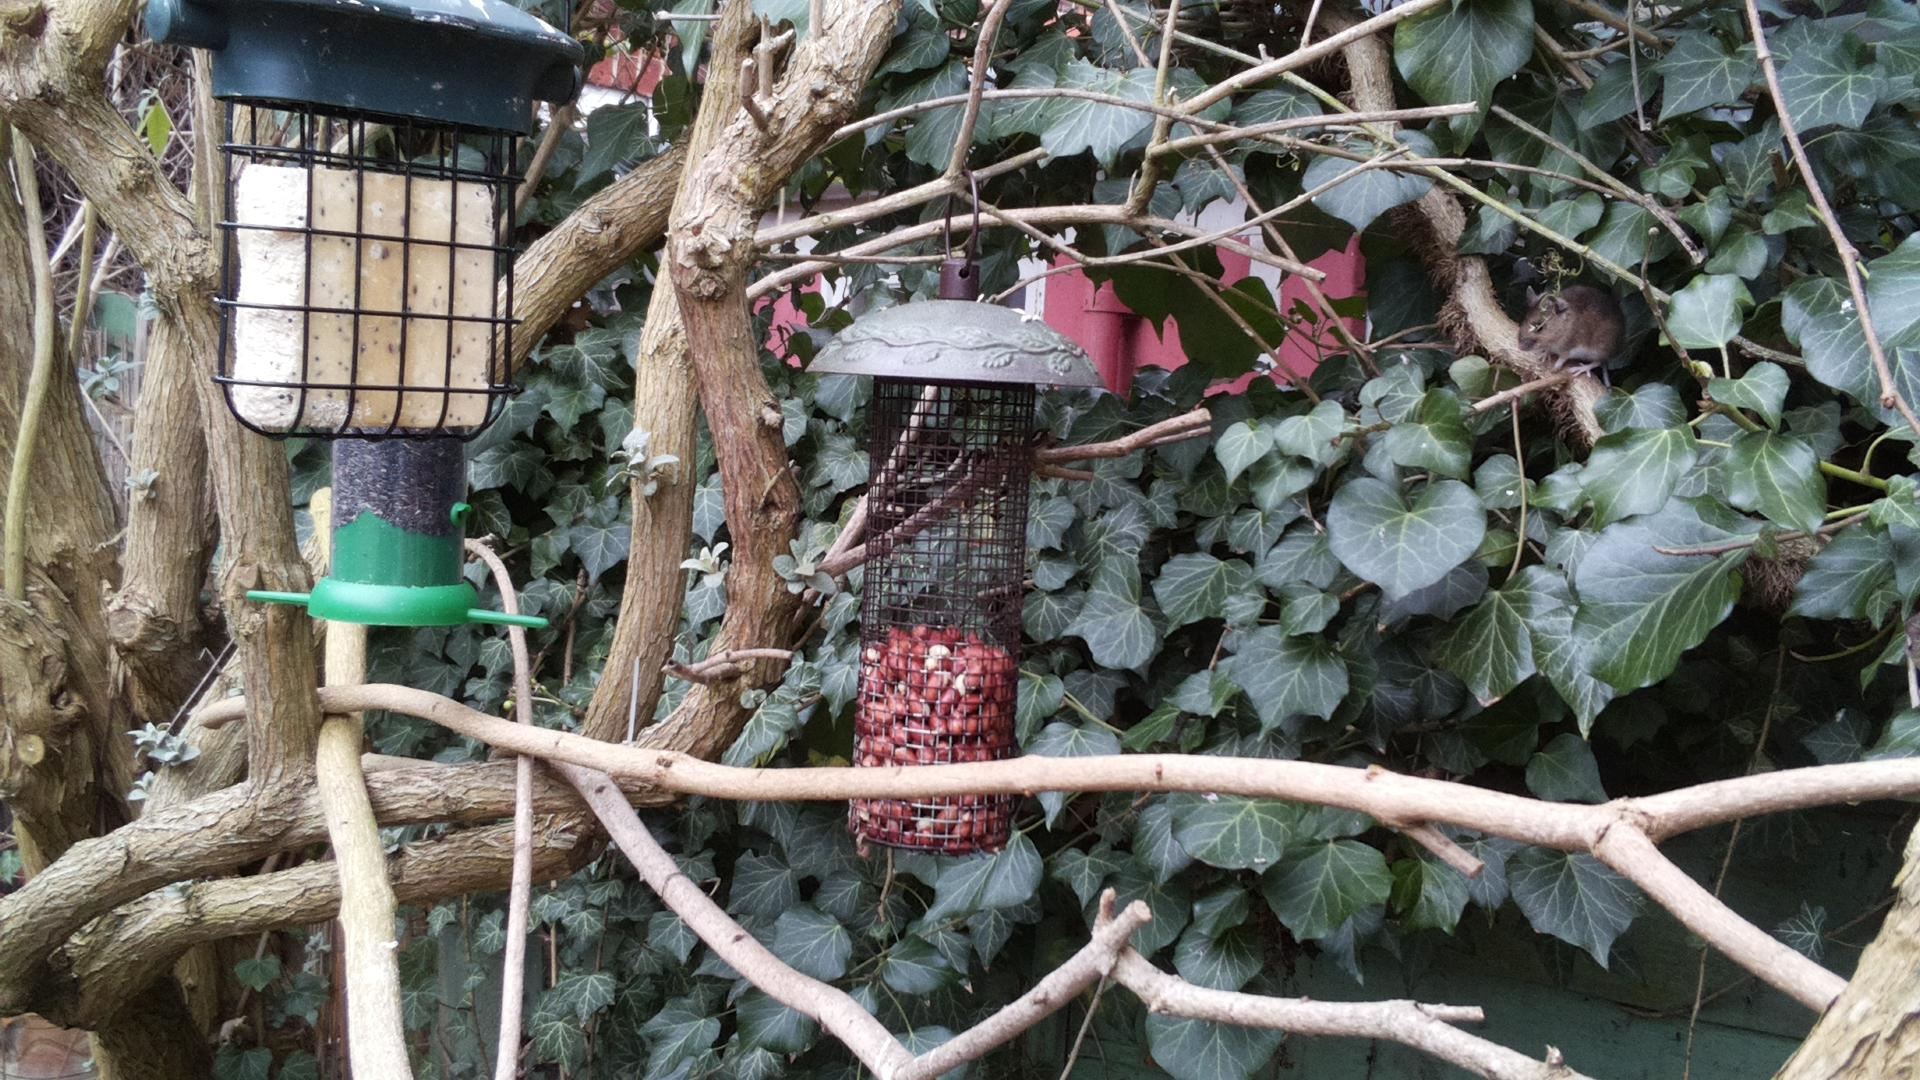mouse: (1516, 284, 1627, 388)
